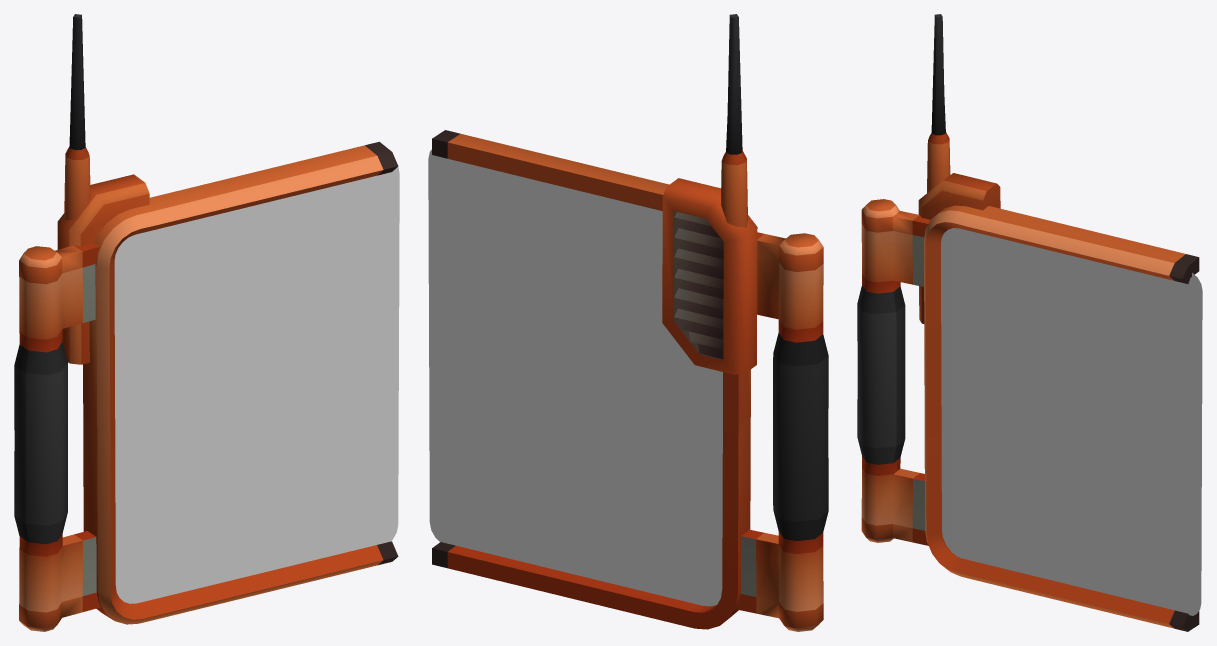
Rendered from SM_Guide_Module_01.fbx.
3 views of the same model, side by side, from view 1: azimuth 30°, elevation 25°; view 2: azimuth 150°, elevation 25°; view 3: azimuth 330°, elevation 25° (orthographic). The views are drawn at different scales.
Visible parts, largest first — view 1: SM_Guide_Module_01; view 2: SM_Guide_Module_01; view 3: SM_Guide_Module_01.
Boxes of the visible parts, x1,y1,x2,y2 form: SM_Guide_Module_01: (14, 14, 399, 631); SM_Guide_Module_01: (428, 14, 828, 631); SM_Guide_Module_01: (857, 14, 1202, 631).
Bounding box in the file's own units: 0.2508 × 0.3812 × 0.0409.
